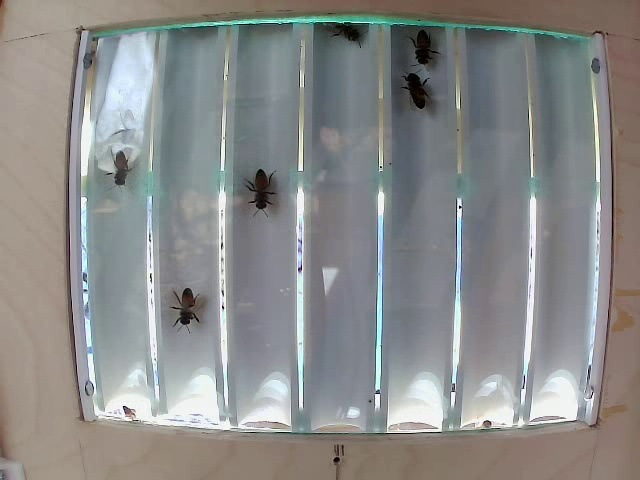bee: (332, 9, 371, 72), (241, 170, 289, 221), (165, 276, 210, 329), (96, 141, 146, 188), (400, 64, 440, 117), (412, 21, 444, 66)
